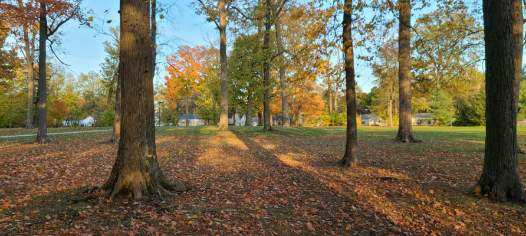tree: (98, 1, 173, 199), (470, 1, 525, 202), (342, 1, 360, 167), (397, 1, 417, 144), (37, 1, 49, 146), (217, 1, 228, 129), (261, 1, 272, 127), (25, 1, 35, 127), (110, 63, 121, 139), (245, 63, 256, 127), (280, 43, 288, 126)
